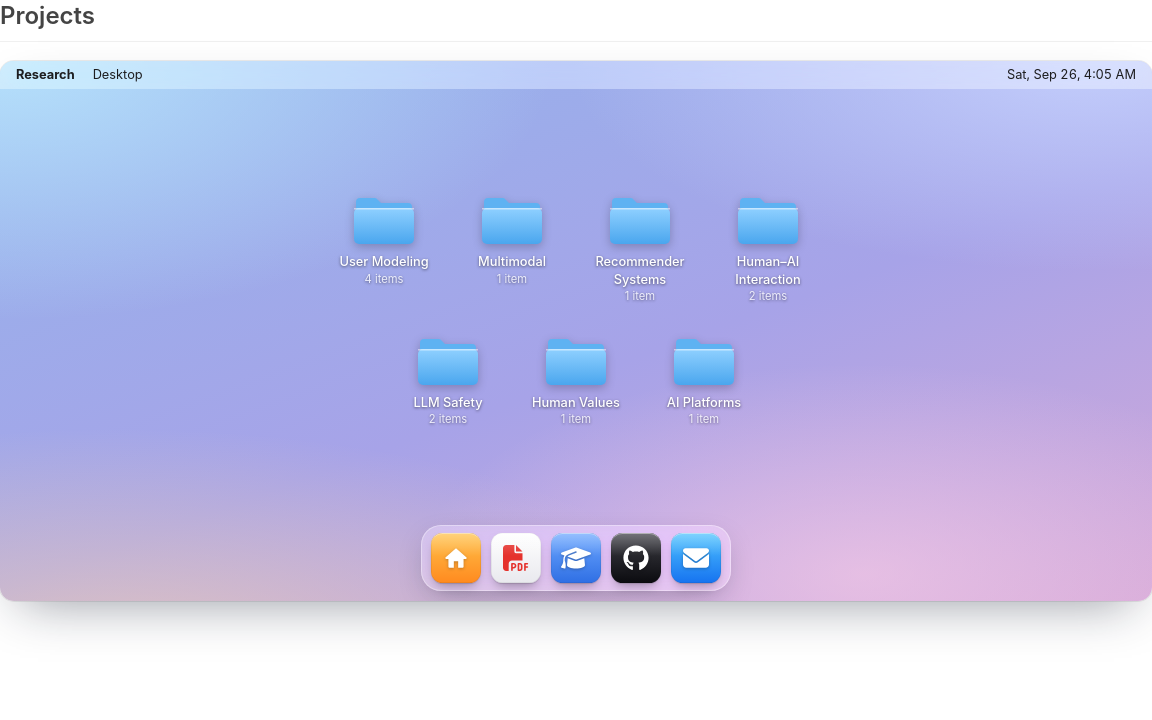
Test: ProjectsDesktop › closes the topmost window on Escape
Click the button with aria-label "User Modeling folder" at (384, 248), box [328,186,440,309]
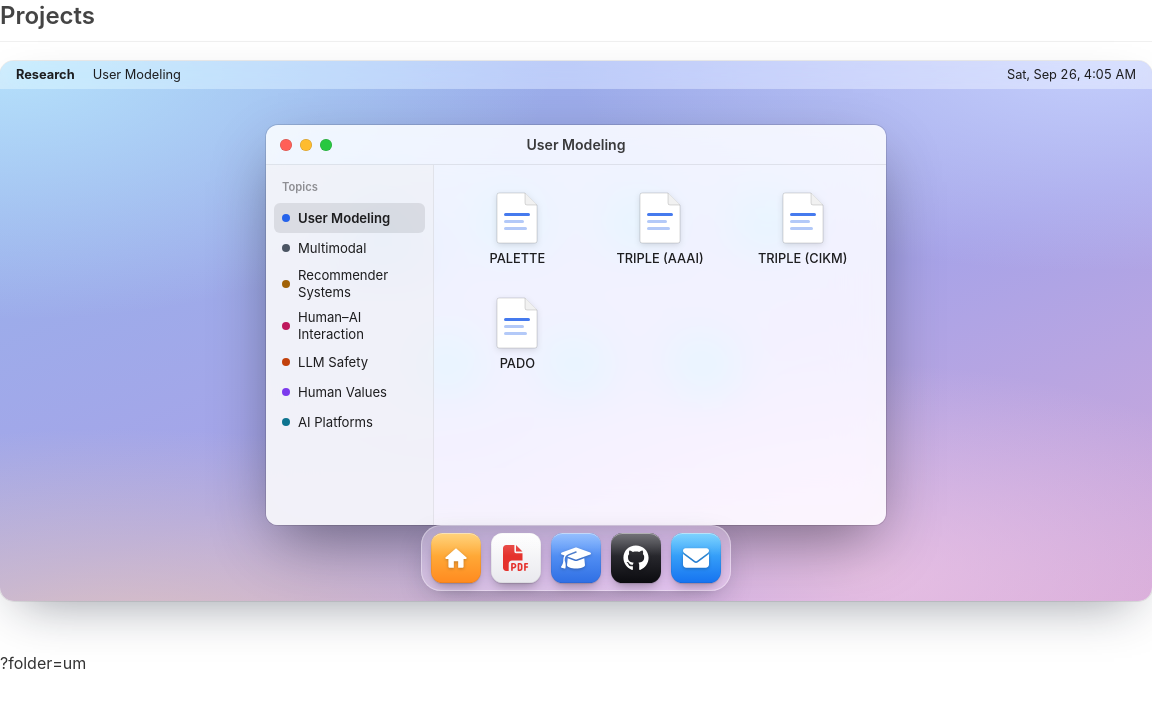
Click the button "PADO" at (517, 334), box [450,286,585,382]
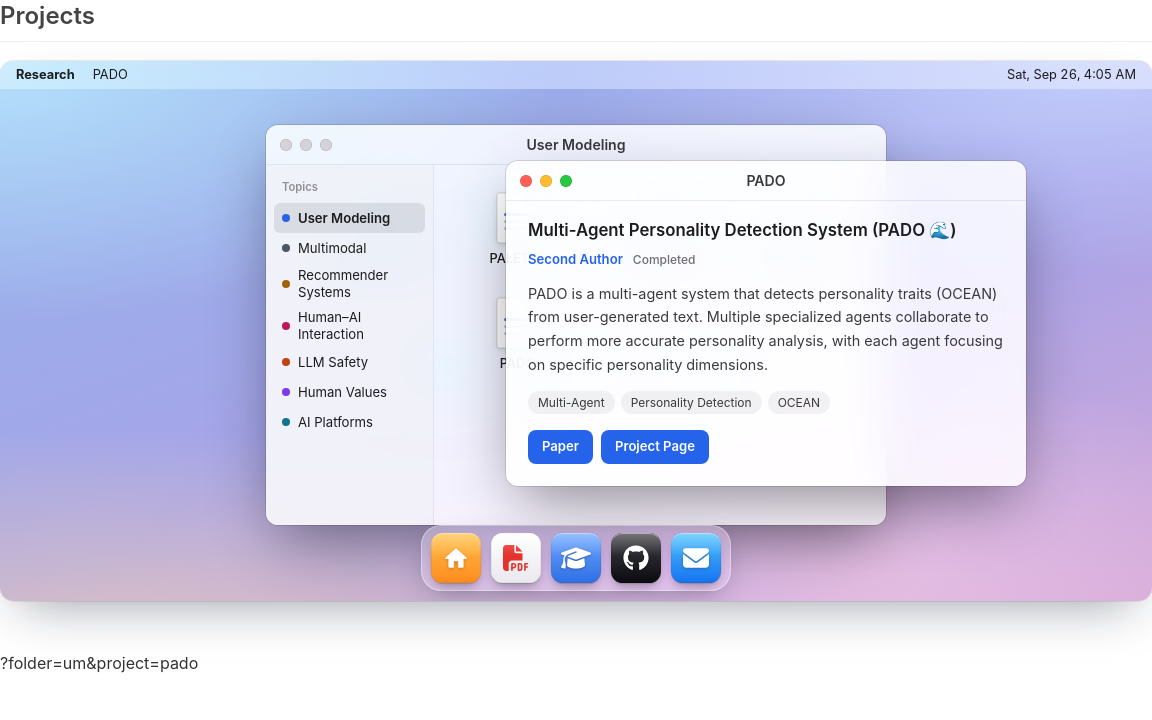
Press Escape
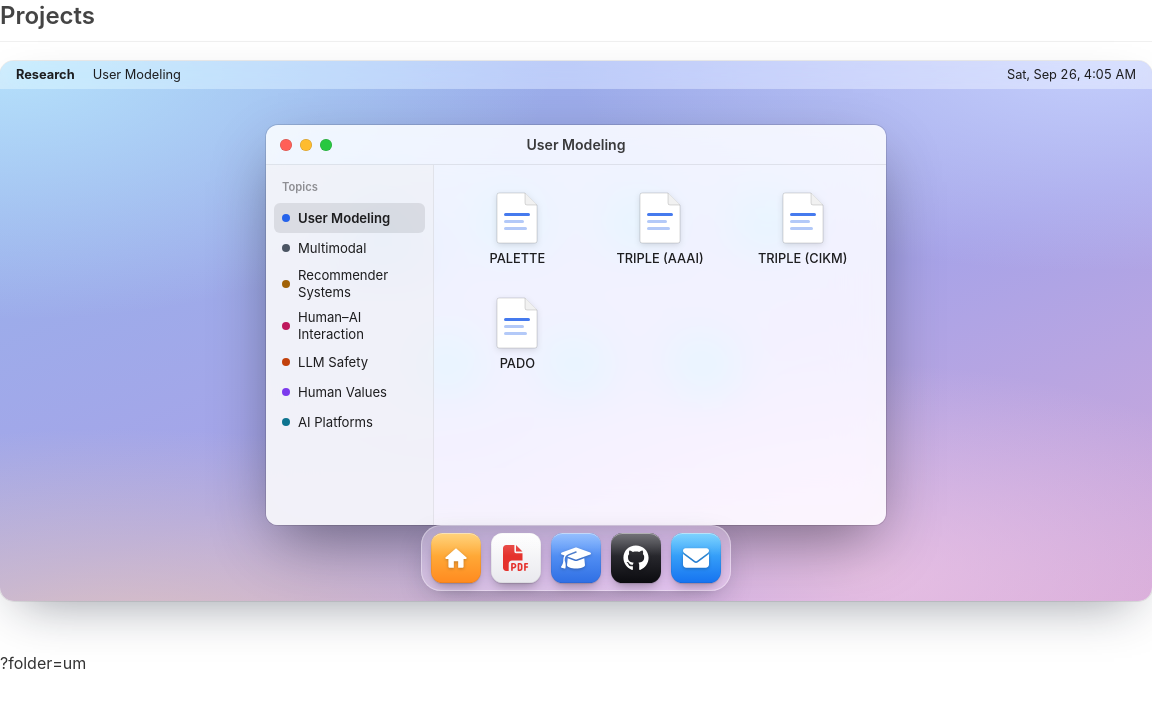
Now the dialog "User Modeling" is shown, box [266,125,886,525]
Press Escape
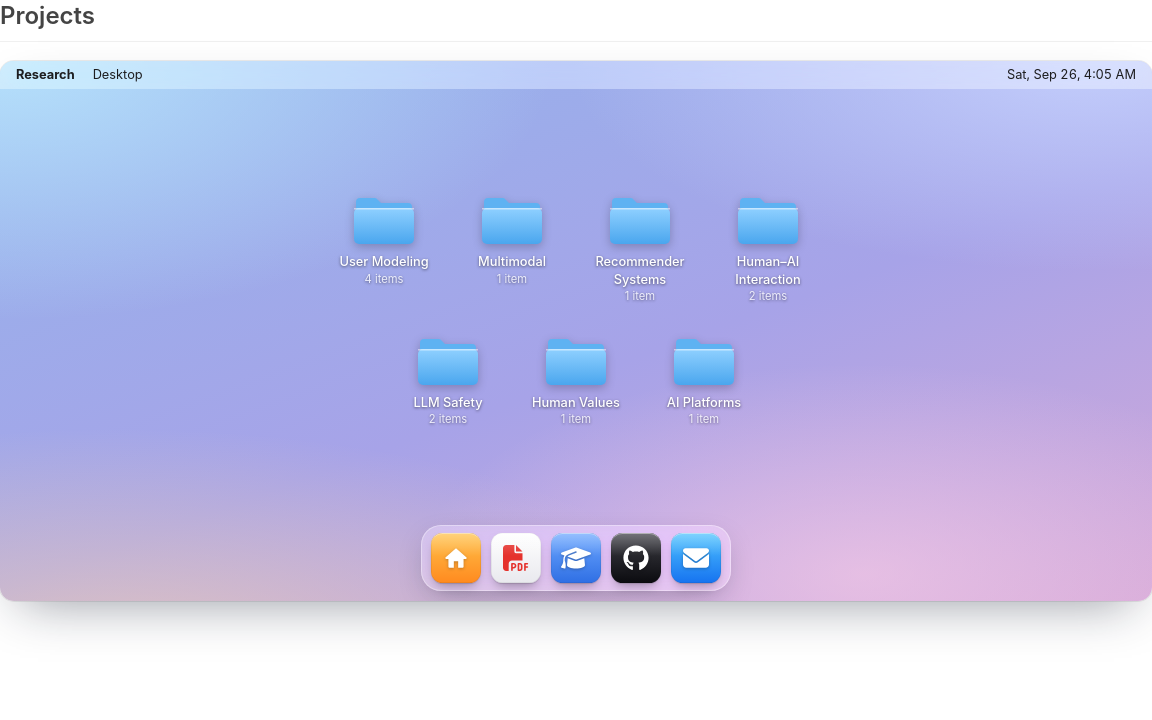
Now the dialog is gone
